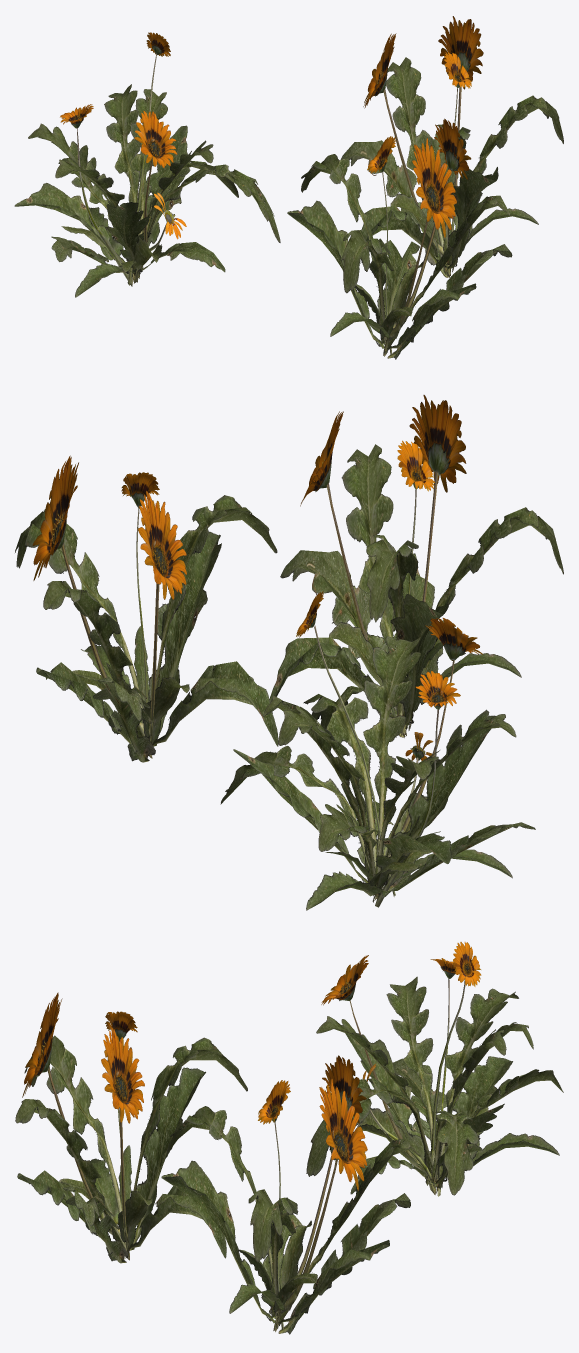
The model's file is flower_gazania_clump.fbx.
3 renders of one model, top to bottom at view 1: azimuth 30°, elevation 25°; view 2: azimuth 150°, elevation 25°; view 3: azimuth 270°, elevation 25°, orthographic. The views are drawn at different scales.
Visible parts, largest first — view 1: flower_gazania_clump; view 2: flower_gazania_clump; view 3: flower_gazania_clump.
Part boxes in pixels (x1,y1,x2,y2): flower_gazania_clump: [14, 16, 563, 359]; flower_gazania_clump: [15, 395, 563, 910]; flower_gazania_clump: [15, 942, 563, 1334].
Bounding box in the file's own units: 0.8 × 0.4075 × 0.7429.
Materials: 1 (1 with a texture image).
